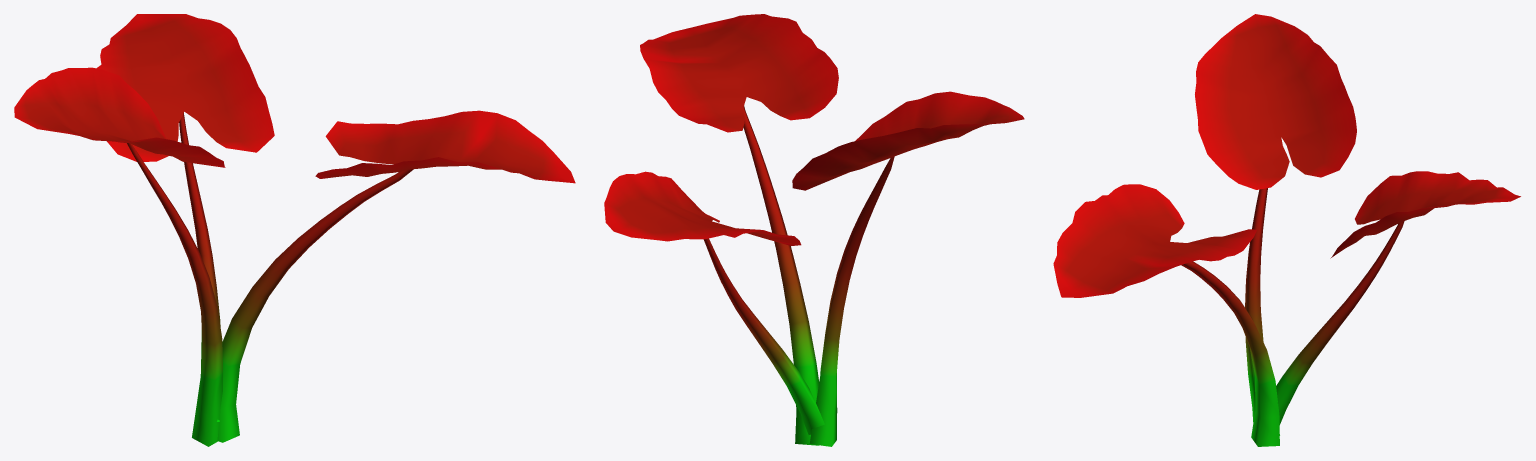
The model's file is F01_Taro_01.fbx.
3 views of the same model, side by side, from view 1: azimuth 30°, elevation 25°; view 2: azimuth 150°, elevation 25°; view 3: azimuth 270°, elevation 25° (orthographic). The views are drawn at different scales.
Parts seen in each view (by area): view 1: _e82c_Var1_LOD0; view 2: _e82c_Var1_LOD0; view 3: _e82c_Var1_LOD0.
Part boxes in pixels (<box>): _e82c_Var1_LOD0: <box>14,14,575,446</box>; _e82c_Var1_LOD0: <box>604,14,1024,446</box>; _e82c_Var1_LOD0: <box>1053,14,1520,446</box>.
Bounding box in the file's own units: 109 × 86.15 × 108.
